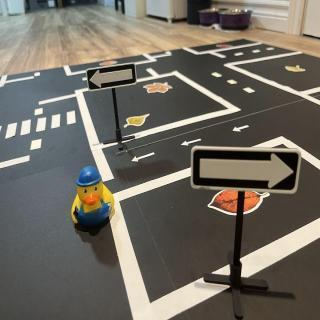duck_specialty: (73, 167, 115, 225)
road_crosswalk: (2, 108, 80, 144)
road_oneway: (129, 149, 159, 166), (181, 135, 205, 153), (230, 122, 252, 137)
sign_oneway_left: (88, 62, 138, 91)
sign_oneway_right: (192, 148, 303, 196)
